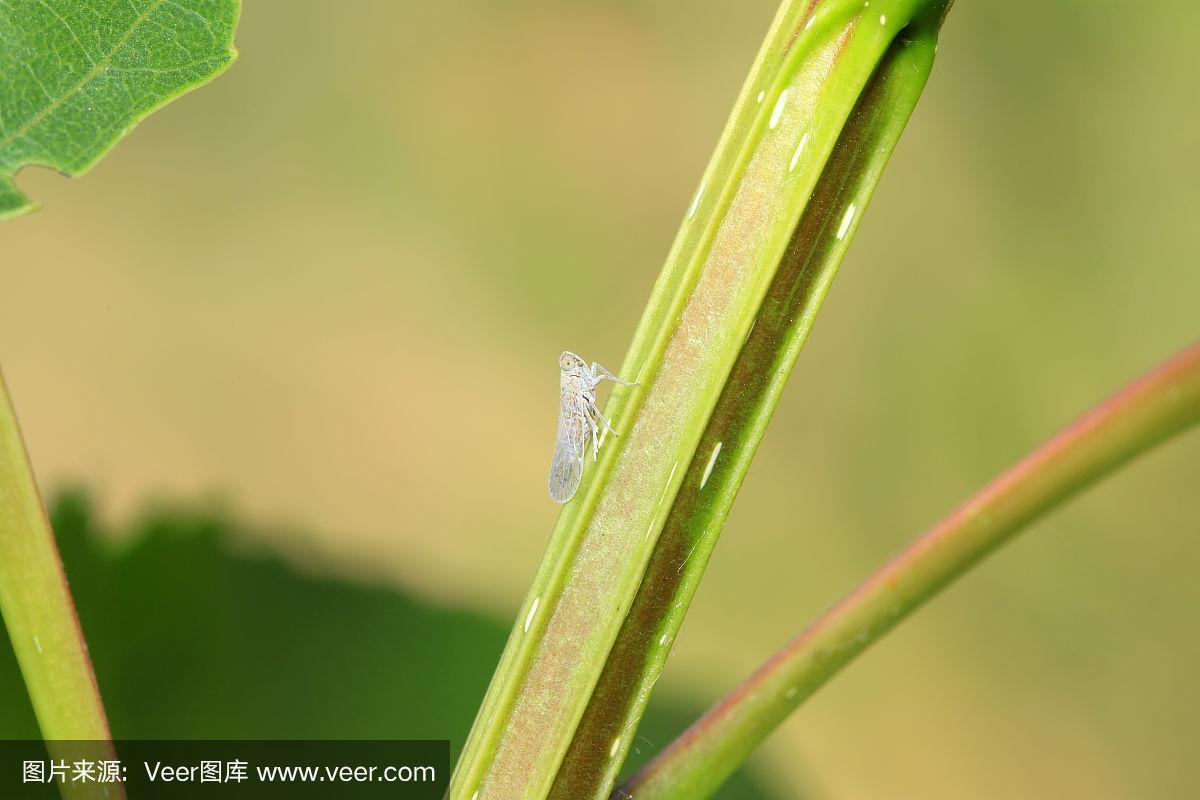Cicadellidae: (545, 350, 637, 500)
